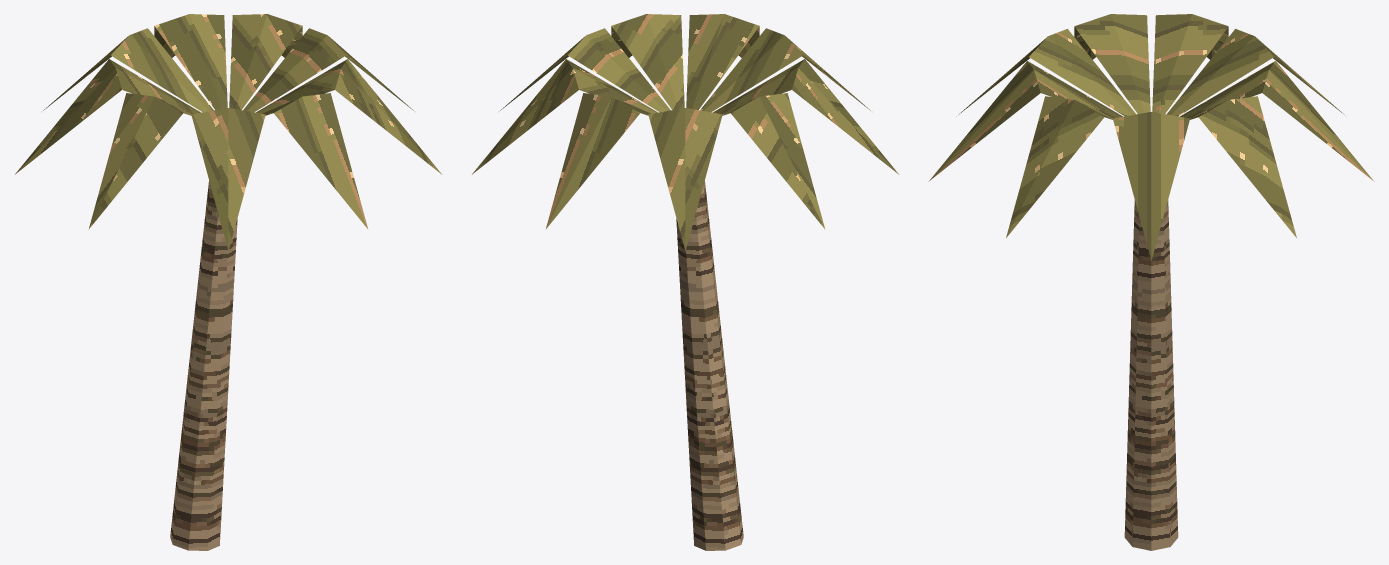
Rendered from arvore_palmeira.glb.
3 views of the same model, side by side, from view 1: azimuth 30°, elevation 25°; view 2: azimuth 150°, elevation 25°; view 3: azimuth 270°, elevation 25° (orthographic). The views are drawn at different scales.
Parts seen in each view (by area): view 1: deserto_arvore_palmeira; view 2: deserto_arvore_palmeira; view 3: deserto_arvore_palmeira.
Boxes of the visible parts, box(x1,y1,x2,y2) form: deserto_arvore_palmeira: box(15, 14, 441, 550); deserto_arvore_palmeira: box(472, 14, 898, 550); deserto_arvore_palmeira: box(928, 14, 1374, 550).
Size of the model in its own units: 1.47 by 1.83 by 1.5.
Materials: 2 (2 with a texture image).
